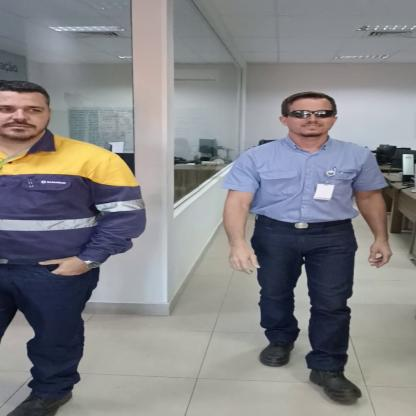Operacional: (0, 137, 148, 265)
